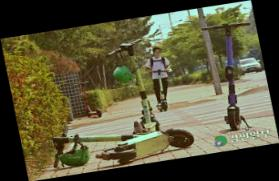nonhelmet: (140, 44, 182, 115)
